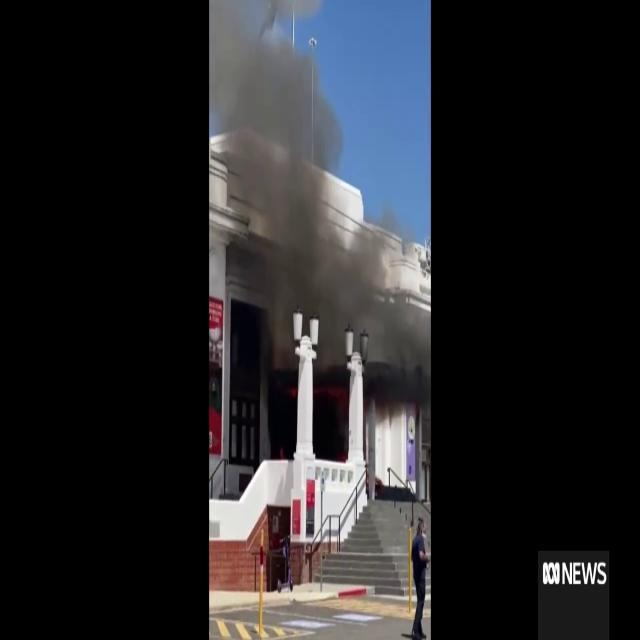Smoke: (210, 4, 424, 376)
